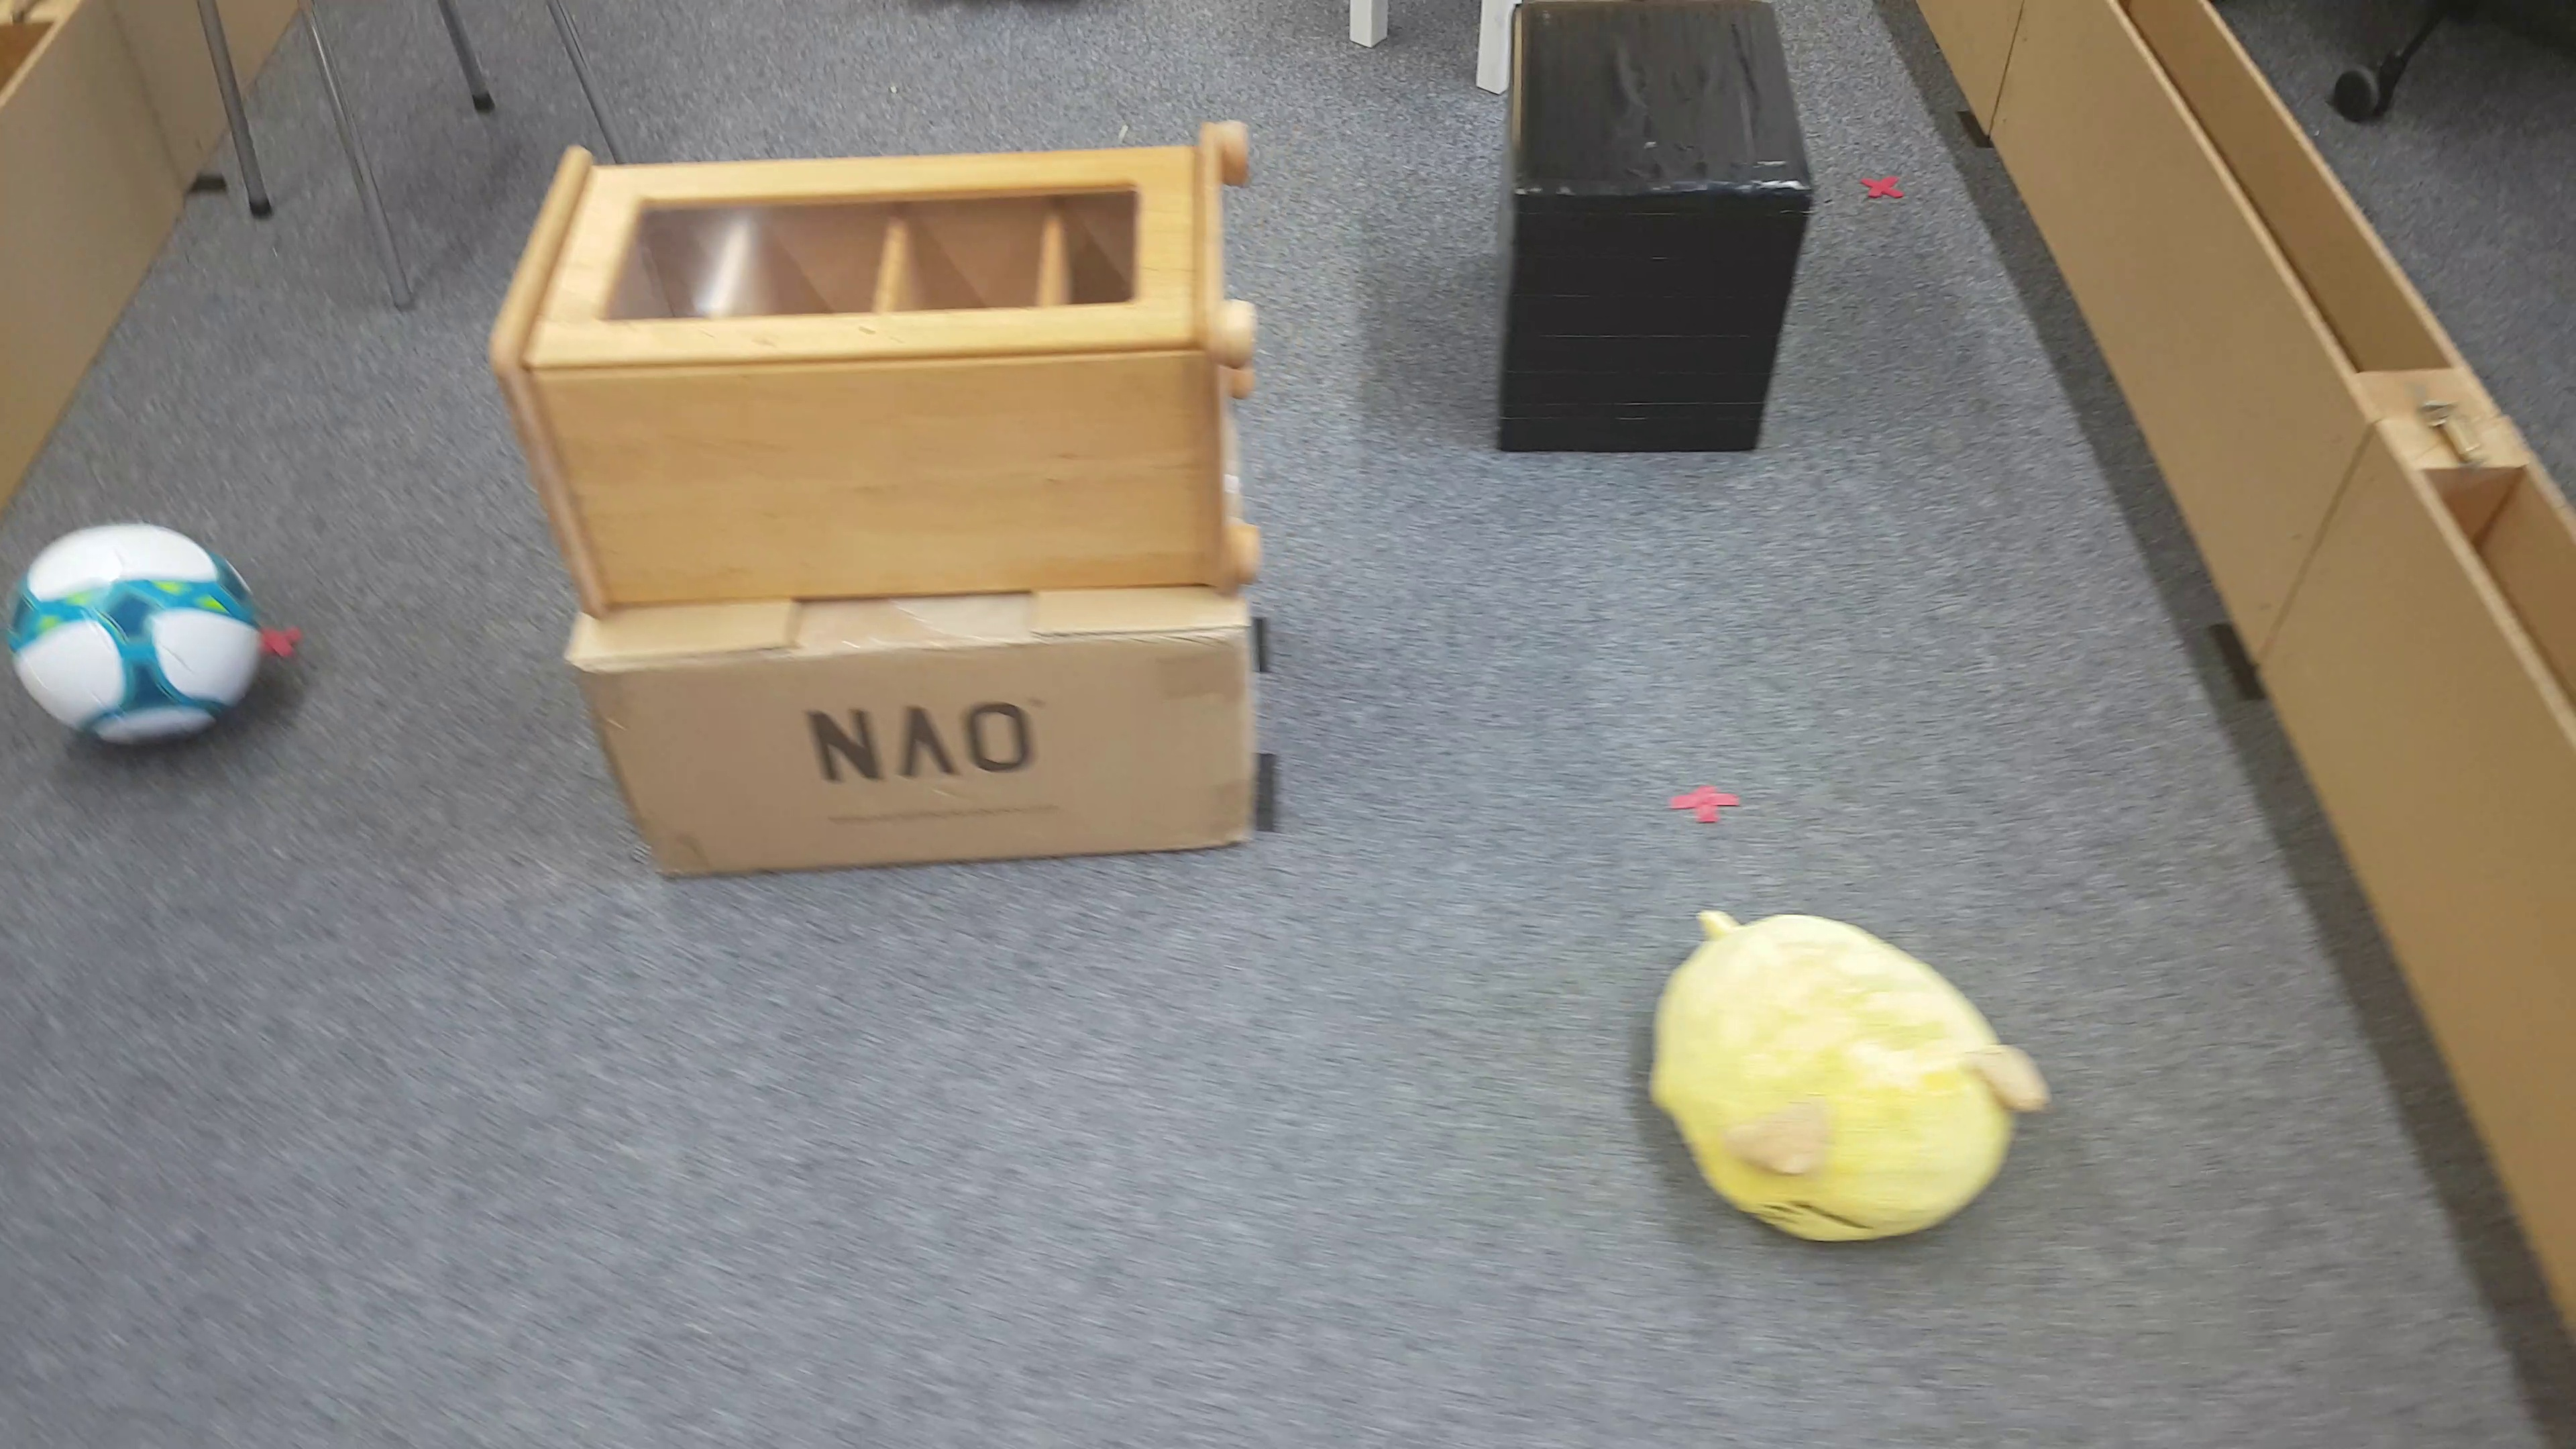grasp: (1644, 904, 2054, 1253)
kick: (9, 517, 264, 754)
push: (1502, 4, 1821, 456)
